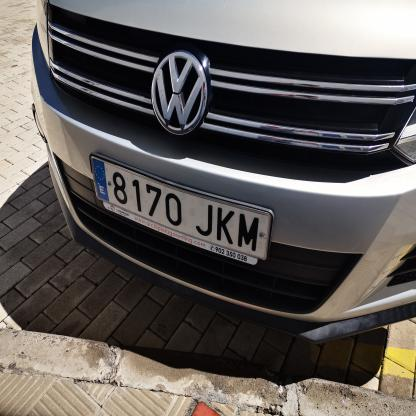patente: (90, 155, 273, 260)
